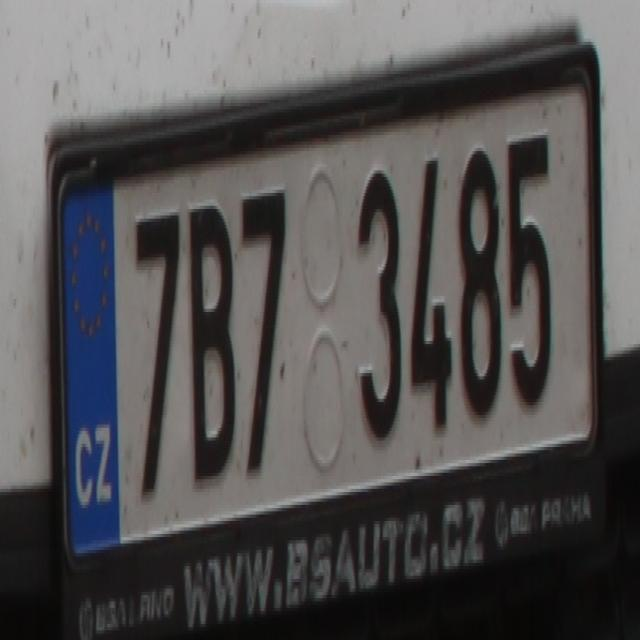3: (358, 161, 404, 447)
4: (408, 144, 451, 428)
5: (505, 129, 554, 415)
7: (129, 184, 183, 496), (239, 187, 288, 472)
8: (459, 138, 502, 415)
B: (184, 190, 235, 498)
